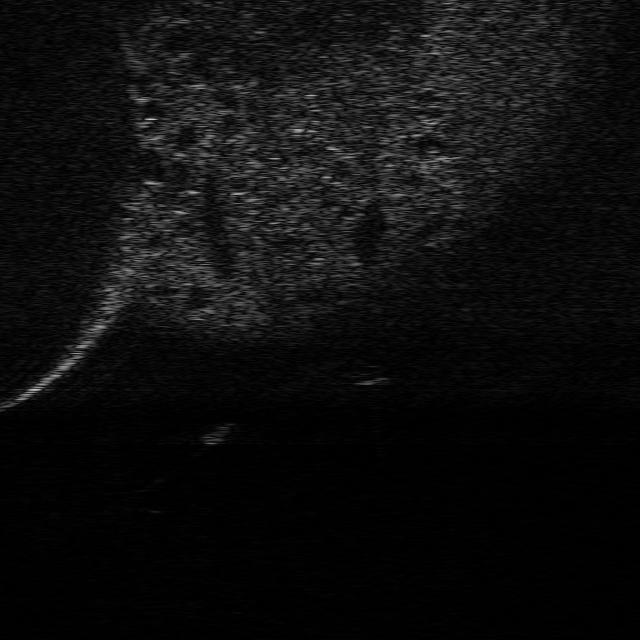cube: (351, 368, 389, 390)
cylinder: (200, 420, 236, 446)
